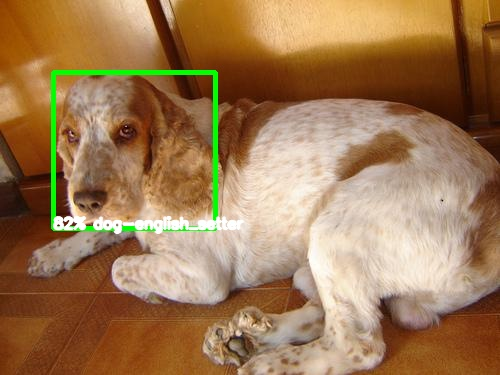dog-english_cocker_spaniel: (57, 70, 223, 225)
